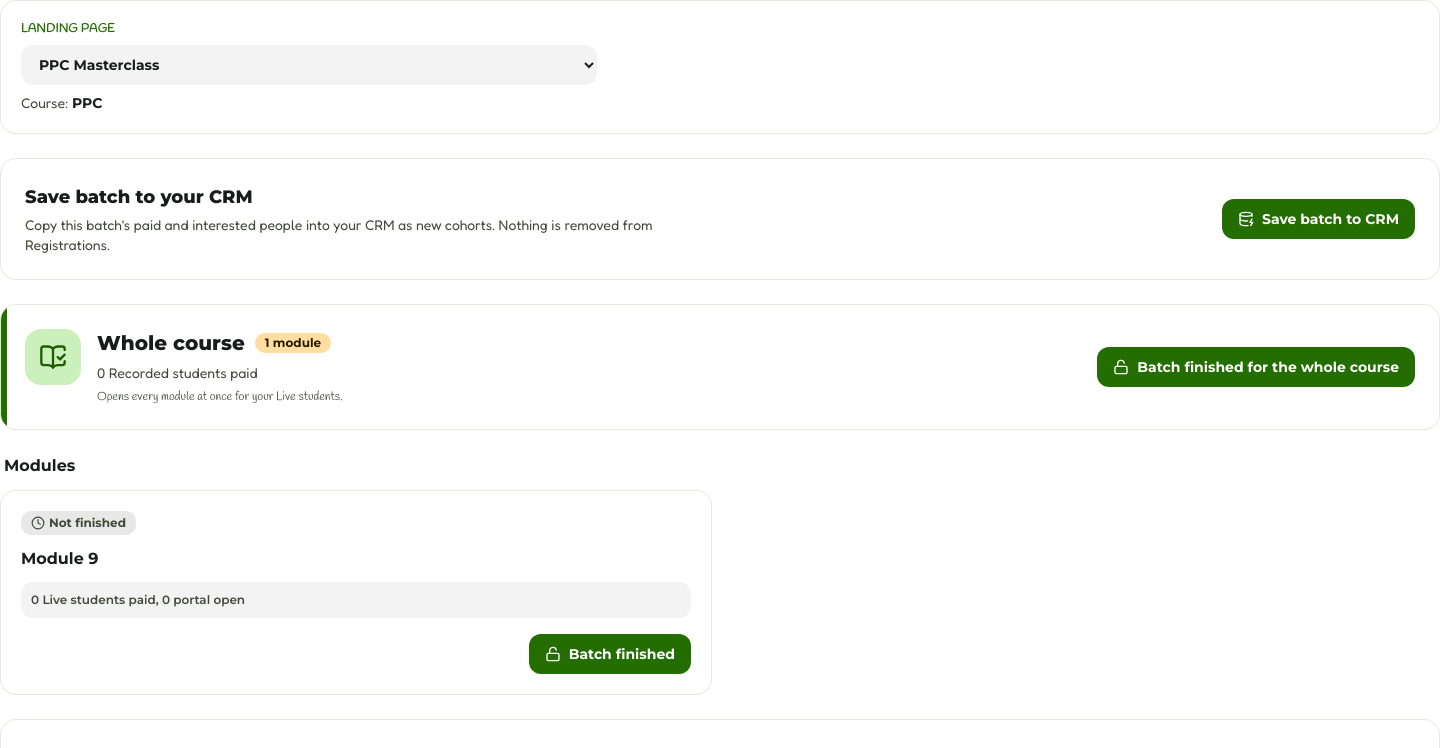
Test: BatchAccessPanel › paid=0 confirm text reads sensibly
Expected: the heading "Module 9" is shown, top-left (21, 549), bottom-right (98, 568)
Click the button "Batch finished" at [610, 654], box top-left (529, 634), bottom-right (691, 674)
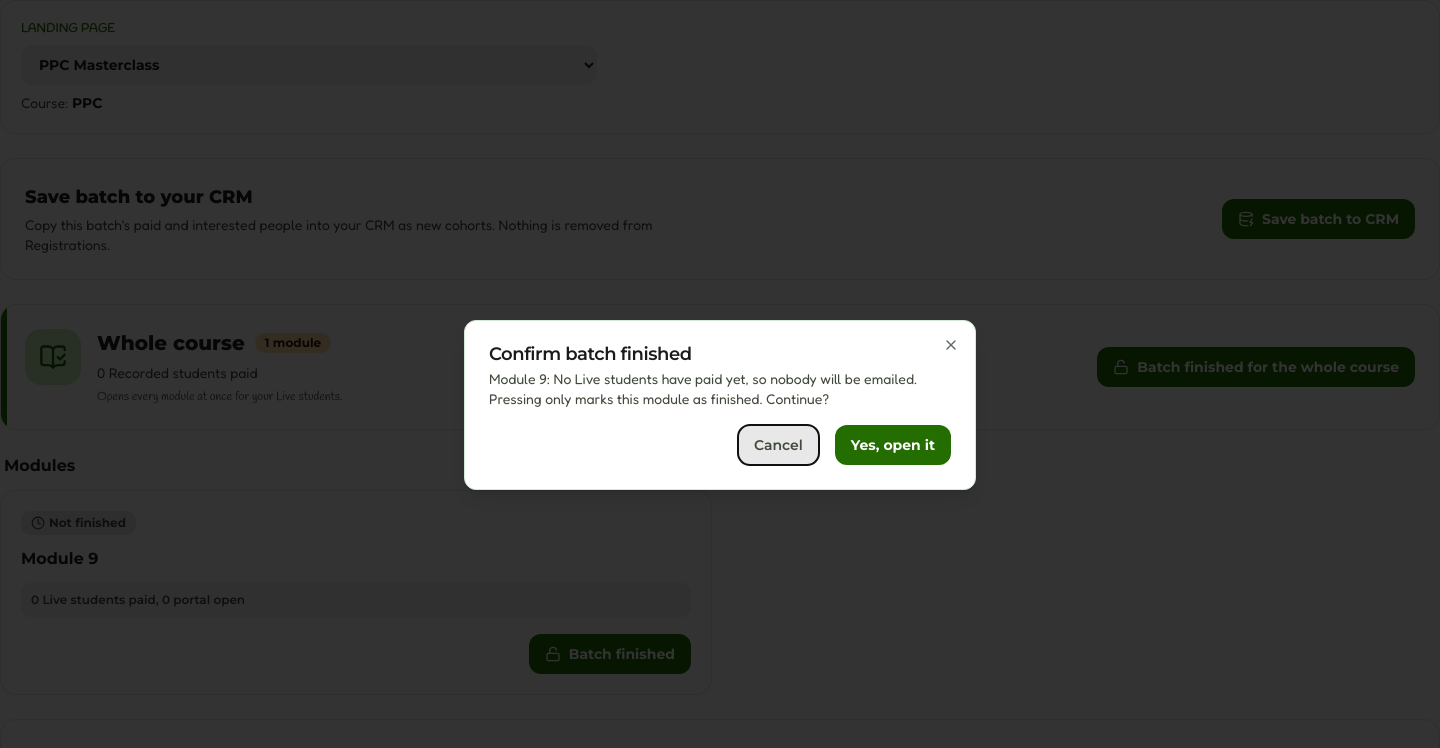
Expected: the text "Module 9: No Live students have paid yet" is shown, top-left (489, 370), bottom-right (917, 407)
